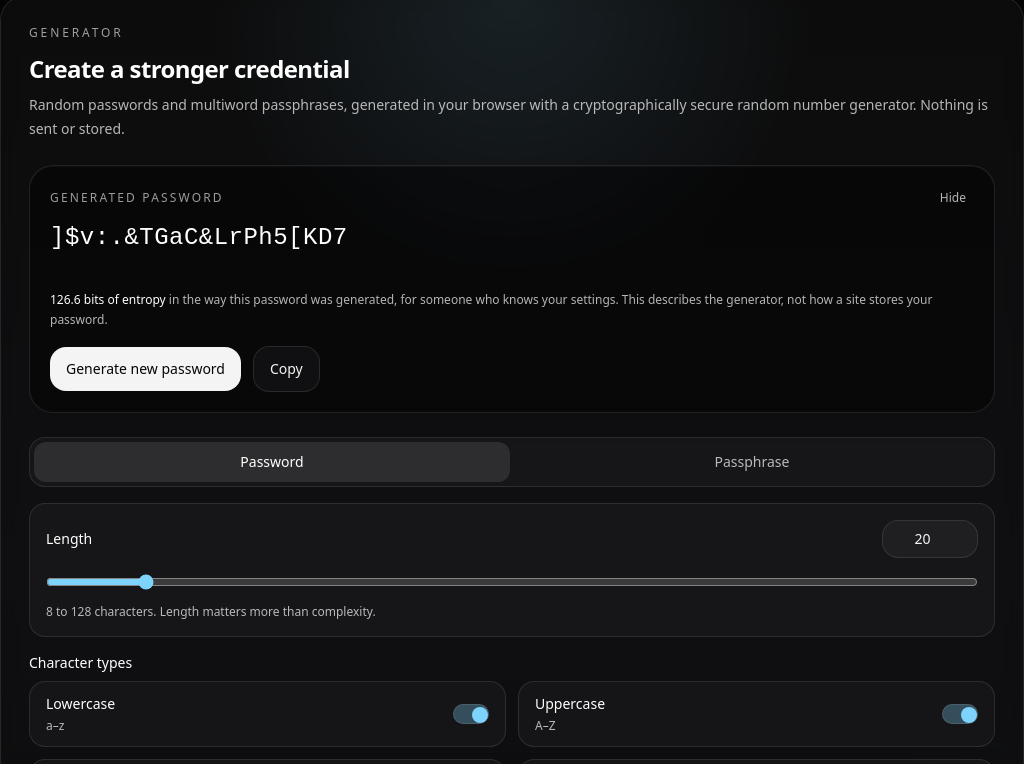
it: PasswordGenerator: passphrase mode › supports word count, capitalization and an appended number
Click the radio button labelled "Passphrase".
click(752, 462)  # box [714,452,790,471]
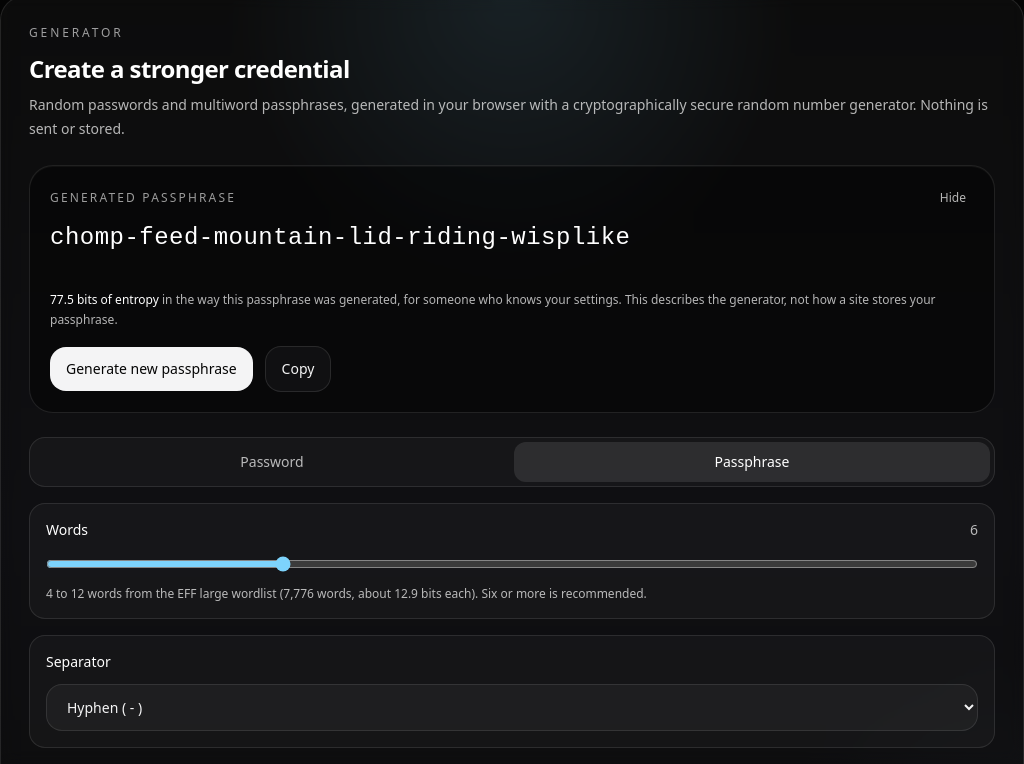
Select "Space" in the dropdown labelled "Separator" at [512, 708], box [46,684,978,731]
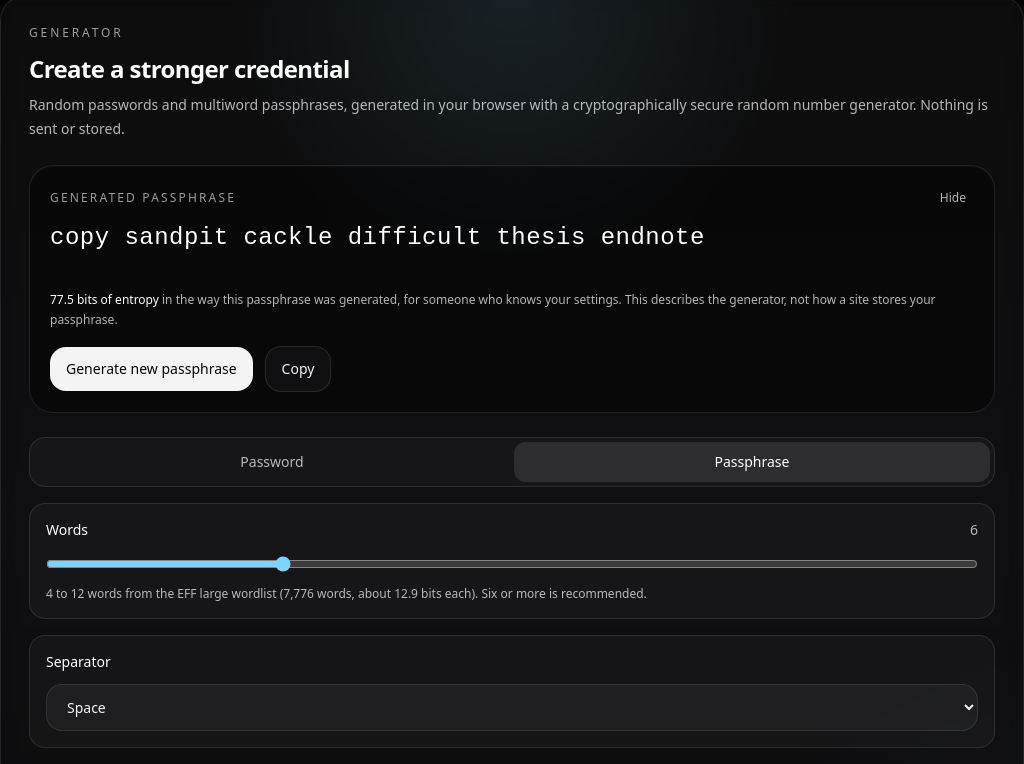
Set the slider labelled "Words" to "8" at [512, 564], box [46,556,978,572]
(page scrolled)
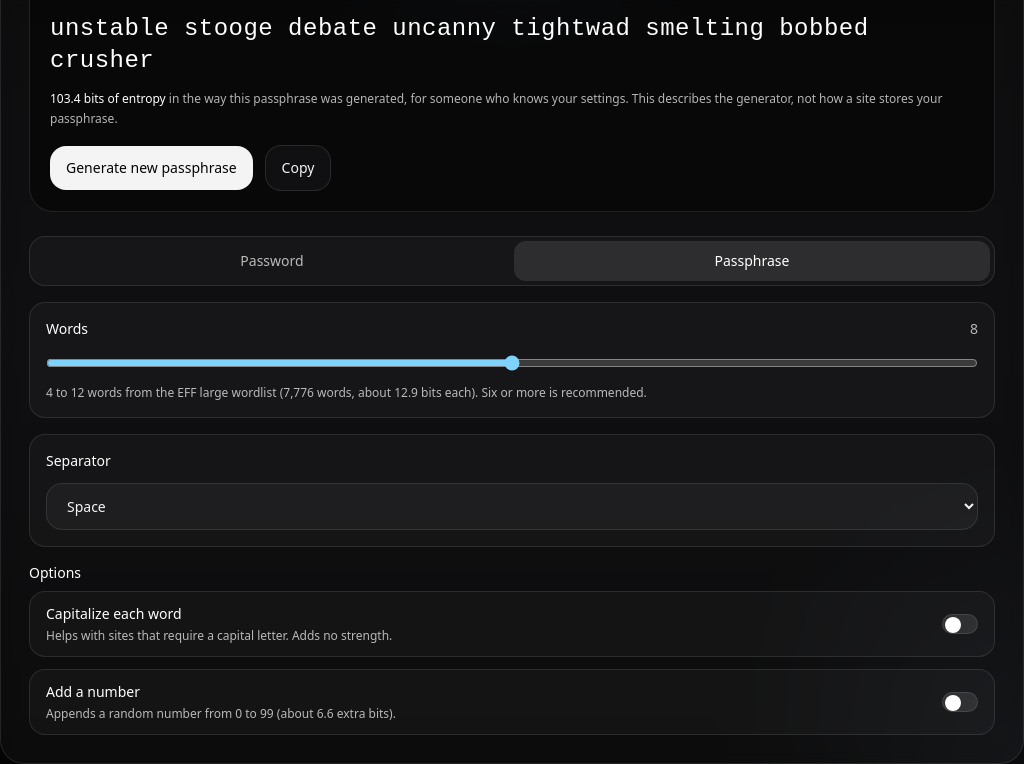
Click the switch labelled "Capitalize".
click(114, 614)  # box [29,591,995,657]
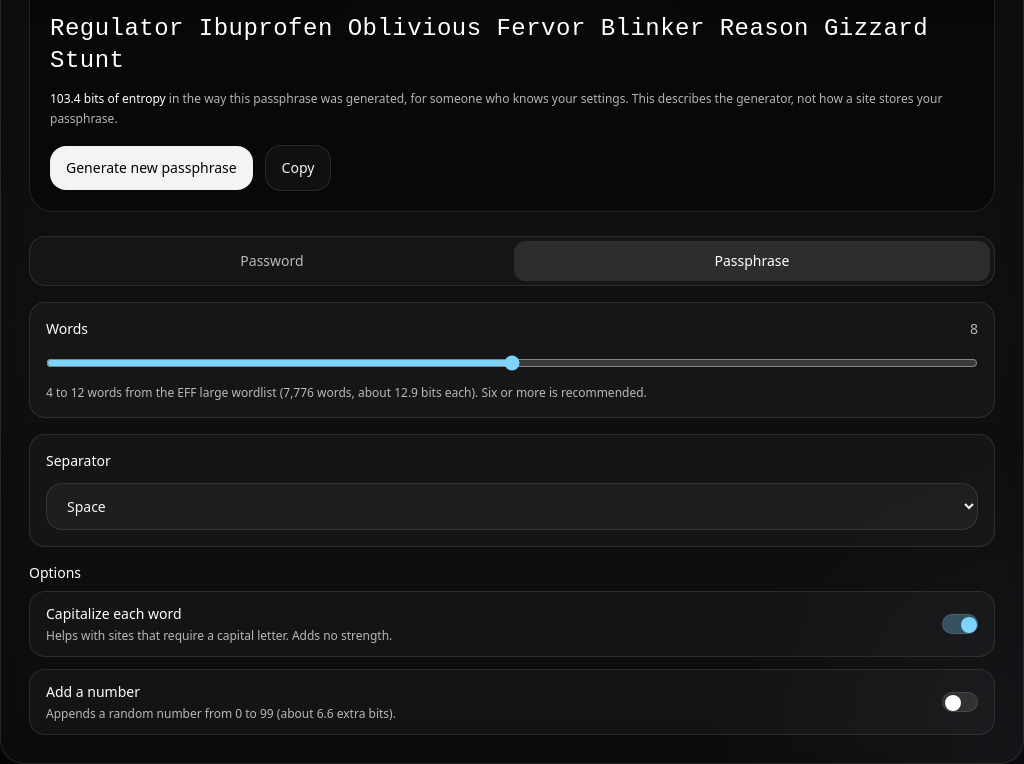
Click the switch labelled "Add a number".
click(93, 692)  # box [29,669,995,735]
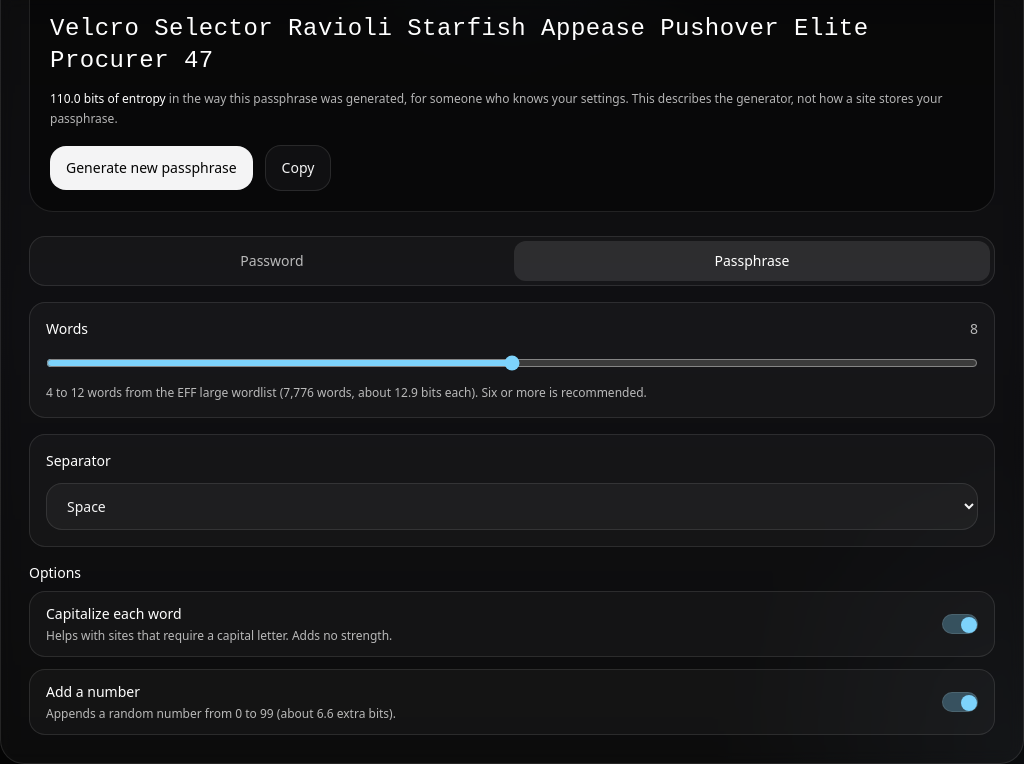
Expected: the text "110.0 bits of entropy" is shown, [50,90,166,107]
